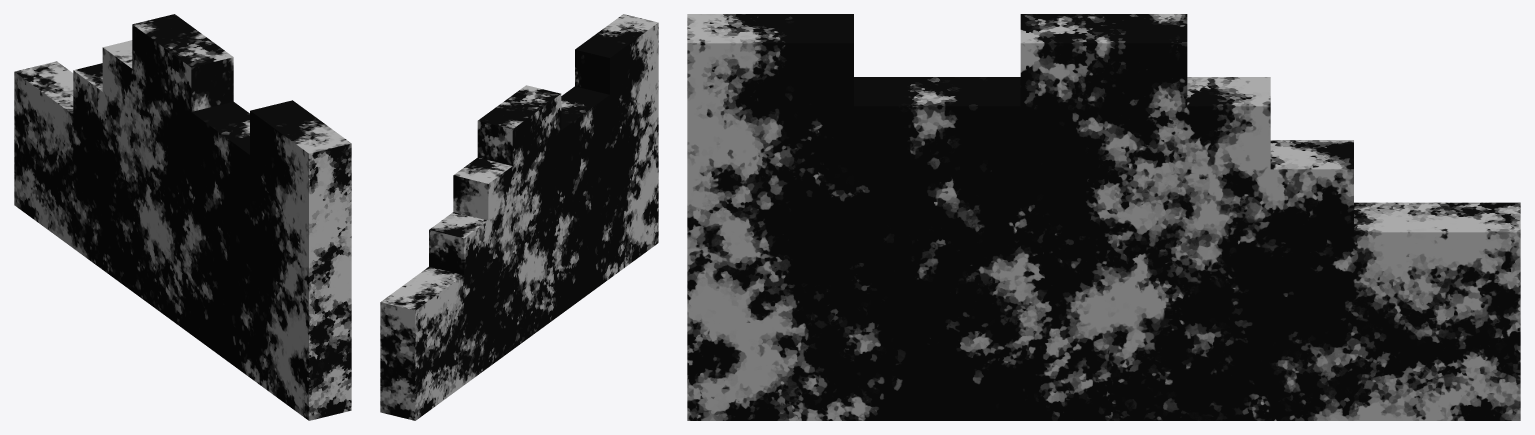
The model's file is SM_Wall_Half_Ruins.fbx.
The picture shows the model from 3 angles, left to right: view 1: azimuth 30°, elevation 25°; view 2: azimuth 150°, elevation 25°; view 3: azimuth 270°, elevation 25°; orthographic projection. The views are drawn at different scales.
Visible parts, largest first — view 1: SM_Wall_Half_Ruins_LOD0; view 2: SM_Wall_Half_Ruins_LOD0; view 3: SM_Wall_Half_Ruins_LOD0.
Boxes of the visible parts, x1,y1,x2,y2 form: SM_Wall_Half_Ruins_LOD0: (14, 14, 351, 420); SM_Wall_Half_Ruins_LOD0: (380, 14, 658, 420); SM_Wall_Half_Ruins_LOD0: (687, 14, 1520, 420).
Bounding box in the file's own units: 50 × 600 × 300.
Materials: 1 (1 with a texture image).
